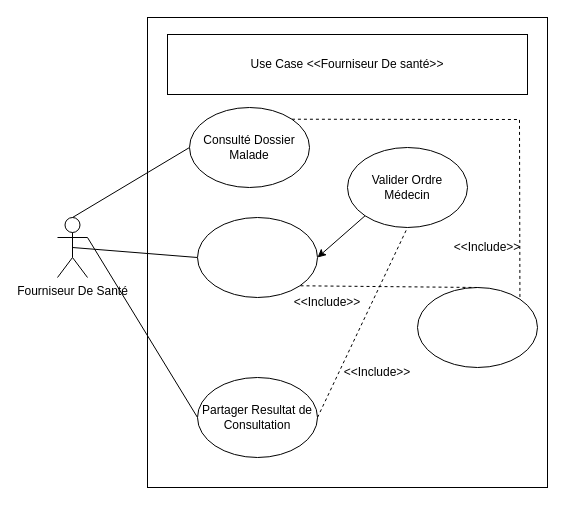
This 565x505 diagram has some shape labels left out. The box of each missing label's shape, as (x1, y1, x2, y2) in pixels:
Authentification: (416, 286, 538, 368)
Consulter Ordre Médecin: (196, 216, 318, 298)
